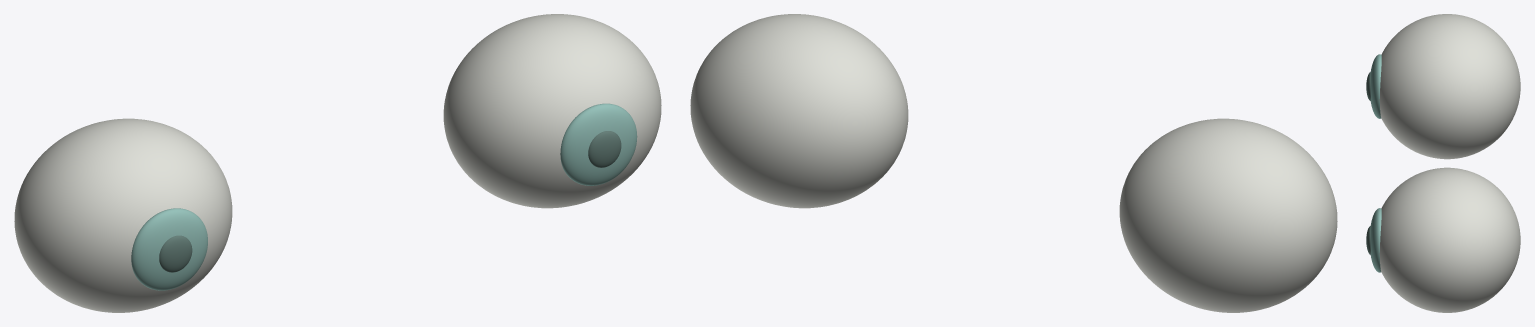
The model's file is organ-eye.glb.
3 views of the same model, side by side, from view 1: azimuth 30°, elevation 25°; view 2: azimuth 150°, elevation 25°; view 3: azimuth 270°, elevation 25° (orthographic). The views are drawn at different scales.
Parts seen in each view (by area): view 1: eye_right_sclera, eye_left_sclera, eye_right_iris, eye_left_iris, eye_right_pupil, eye_left_pupil; view 2: eye_left_sclera, eye_right_sclera; view 3: eye_left_sclera, eye_right_sclera, eye_right_iris, eye_left_iris.
Part boxes in pixels (x1,y1,x2,y2): eye_right_sclera: (14,118,232,312); eye_left_sclera: (443,14,661,208); eye_right_iris: (131,208,207,290); eye_left_iris: (560,103,637,185); eye_right_pupil: (159,235,192,272); eye_left_pupil: (588,131,621,167); eye_left_sclera: (690,14,908,208); eye_right_sclera: (1119,118,1337,312); eye_left_sclera: (1379,167,1520,312); eye_right_sclera: (1379,14,1520,159); eye_right_iris: (1370,54,1381,118); eye_left_iris: (1370,208,1381,272).
Size of the model in its own units: 0.18 by 0.048 by 0.0526.
